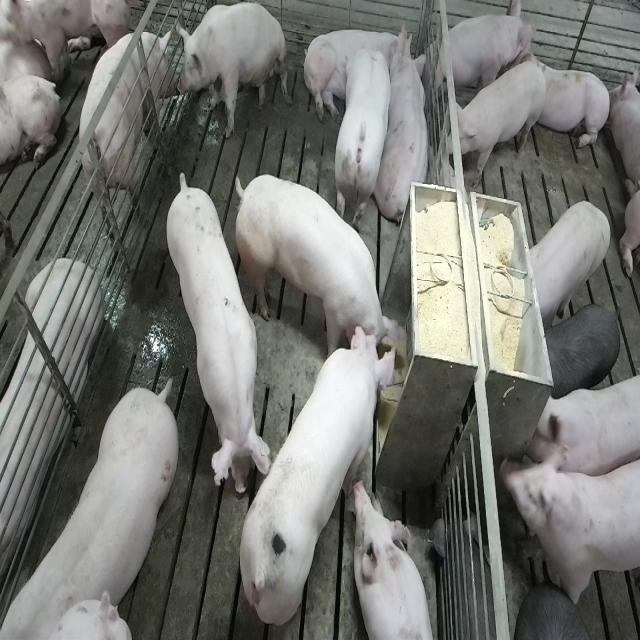Feeding: (231, 322, 397, 628), (241, 170, 415, 378)
Lateral_lying: (304, 18, 414, 120)
Sitting: (175, 1, 288, 142)
Standing: (5, 375, 183, 634), (169, 164, 273, 496), (503, 428, 638, 614), (80, 27, 180, 236), (445, 60, 546, 189), (527, 371, 637, 482), (524, 202, 612, 327), (332, 48, 391, 234), (543, 303, 622, 404), (516, 579, 602, 638)
Sternal_lying: (0, 260, 100, 602), (353, 483, 436, 640), (518, 51, 613, 154)
